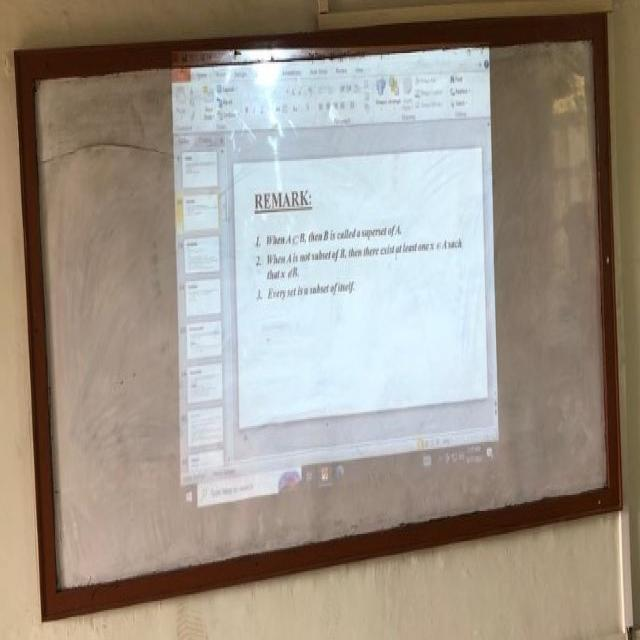Slide: (167, 37, 496, 512)
White-board: (25, 20, 622, 609)
